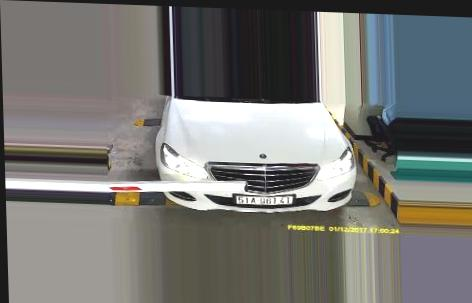License_Plate: (233, 192, 297, 210)
